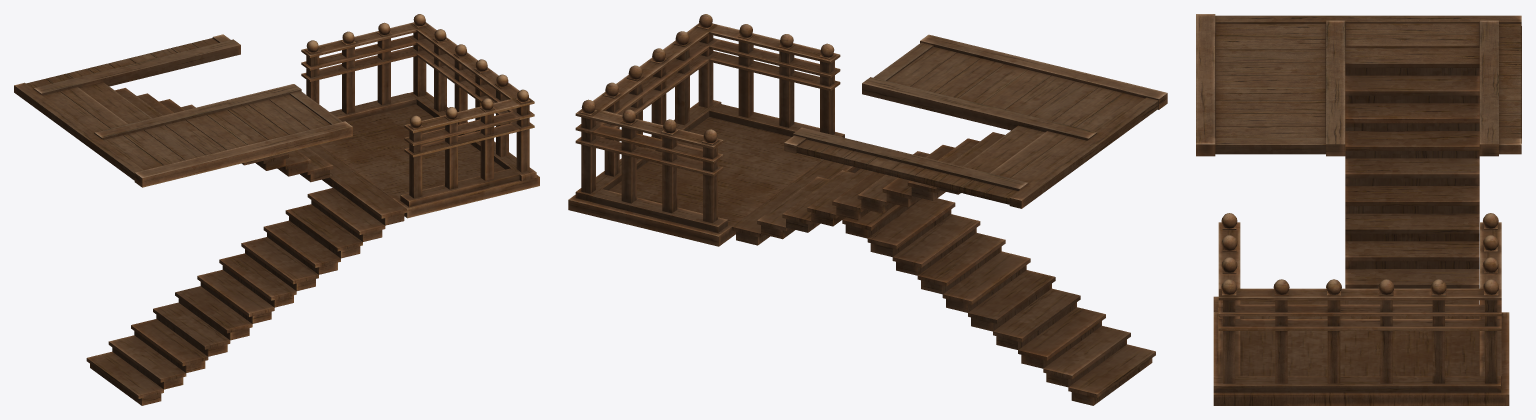
Rendered from Stair_A.fbx.
3 renders of one model, left to right at view 1: azimuth 30°, elevation 25°; view 2: azimuth 150°, elevation 25°; view 3: azimuth 270°, elevation 25°, orthographic. The views are drawn at different scales.
Visible parts, largest first — view 1: Stair_A_step, Stairs_A_stage; view 2: Stair_A_step, Stairs_A_stage; view 3: Stair_A_step, Stairs_A_stage.
Part boxes in pixels (x1,y1,x2,y2): Stair_A_step: [14, 34, 407, 405]; Stairs_A_stage: [301, 14, 539, 218]; Stair_A_step: [732, 34, 1167, 405]; Stairs_A_stage: [568, 14, 844, 246]; Stair_A_step: [1196, 14, 1521, 312]; Stairs_A_stage: [1213, 213, 1509, 405].
Size of the model in its own units: 728 by 403 by 400.
